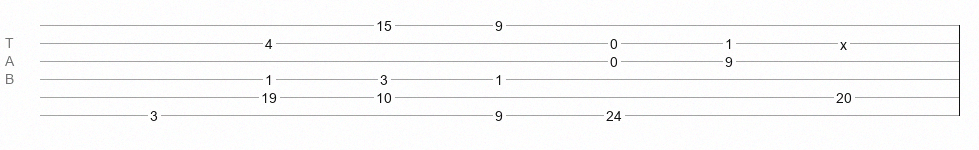0: (610, 54, 618, 64), (610, 36, 618, 46)
1: (265, 72, 273, 82), (495, 72, 503, 82), (725, 36, 733, 46)
10: (376, 90, 392, 100)
15: (376, 18, 392, 28)
19: (261, 90, 277, 100)
20: (836, 90, 852, 100)
24: (606, 108, 622, 118)
3: (150, 108, 158, 118), (380, 72, 388, 82)
4: (265, 36, 273, 46)
9: (495, 108, 503, 118), (495, 18, 503, 28), (725, 54, 733, 64)
x: (840, 37, 847, 45)
